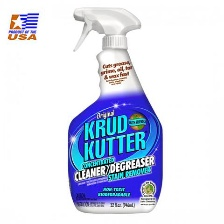cleaning_solution: (62, 4, 165, 216)
